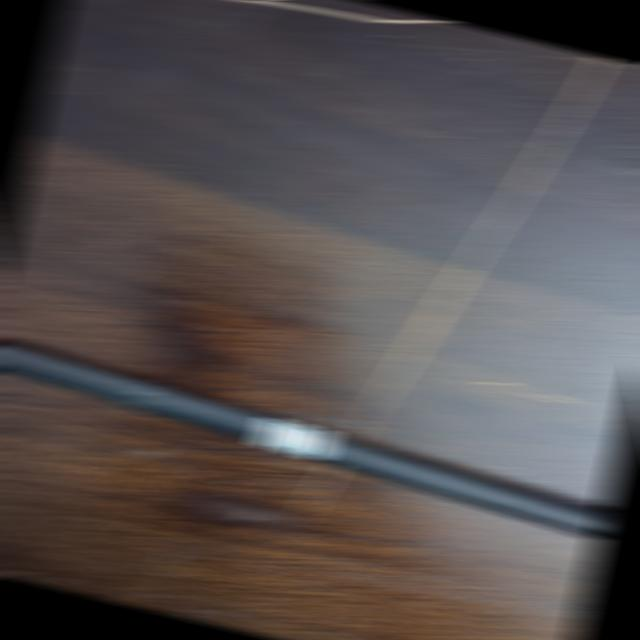white: (252, 414, 334, 463)
